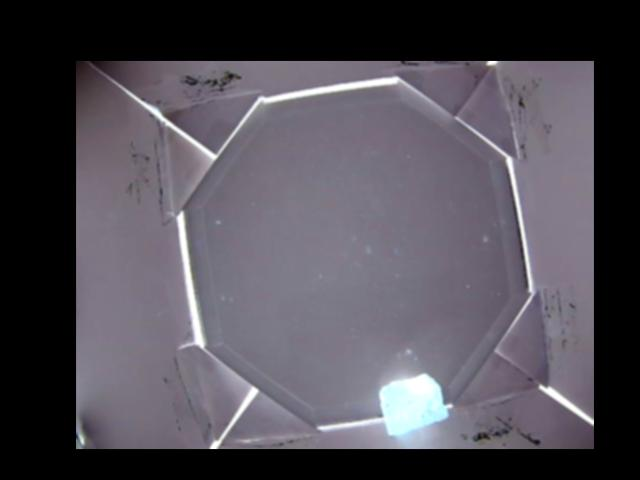Brisk: (381, 373, 447, 435)
